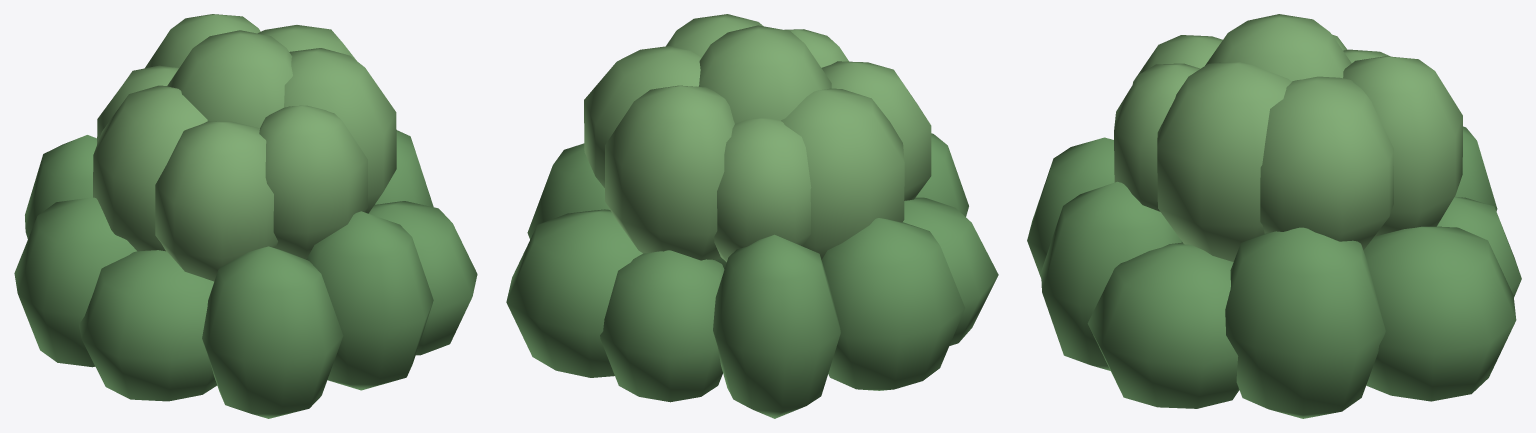
Rendered from shrub.glb.
3 views of the same model, side by side, from view 1: azimuth 30°, elevation 25°; view 2: azimuth 150°, elevation 25°; view 3: azimuth 270°, elevation 25° (orthographic). The views are drawn at different scales.
Parts seen in each view (by area): view 1: Foliage | scalloped leaf cluster.006, Foliage | scalloped leaf cluster.005, Foliage | scalloped leaf cluster.007, Foliage | scalloped leaf cluster.013, Foliage | scalloped leaf cluster.014, Foliage | scalloped leaf cluster.004, Foliage | scalloped leaf cluster.012, Foliage | scalloped leaf cluster.016, Foliage | scalloped leaf cluster.015, Foliage | scalloped leaf cluster.008, Foliage | scalloped leaf cluster.003, Foliage | scalloped leaf cluster.010 (+3 smaller); view 2: Foliage | scalloped leaf cluster.004, Foliage | scalloped leaf cluster.003, Foliage | scalloped leaf cluster.010, Foliage | scalloped leaf cluster.002, Foliage | scalloped leaf cluster.001, Foliage | scalloped leaf cluster.012, Foliage | scalloped leaf cluster.011, Foliage | scalloped leaf cluster.016, Foliage | scalloped leaf cluster.009, Foliage | scalloped leaf cluster.013, Foliage | scalloped leaf cluster.005, Foliage | scalloped leaf cluster (+3 smaller); view 3: Foliage | scalloped leaf cluster, Foliage | scalloped leaf cluster.001, Foliage | scalloped leaf cluster.008, Foliage | scalloped leaf cluster.015, Foliage | scalloped leaf cluster.009, Foliage | scalloped leaf cluster.010, Foliage | scalloped leaf cluster.007, Foliage | scalloped leaf cluster.016, Foliage | scalloped leaf cluster.014, Foliage | scalloped leaf cluster.006, Foliage | scalloped leaf cluster.002, Foliage | scalloped leaf cluster.013 (+1 smaller).
Part boxes in pixels (x1,y1,x2,y2): Foliage | scalloped leaf cluster.006: (202,246,343,418); Foliage | scalloped leaf cluster.005: (79,250,217,401); Foliage | scalloped leaf cluster.007: (306,211,433,390); Foliage | scalloped leaf cluster.013: (155,121,277,281); Foliage | scalloped leaf cluster.014: (259,105,367,259); Foliage | scalloped leaf cluster.004: (14,197,136,367); Foliage | scalloped leaf cluster.012: (93,85,207,251); Foliage | scalloped leaf cluster.016: (167,30,292,128); Foliage | scalloped leaf cluster.015: (284,48,396,213); Foliage | scalloped leaf cluster.008: (368,201,477,355); Foliage | scalloped leaf cluster.003: (25,135,96,238); Foliage | scalloped leaf cluster.010: (145,14,260,68); Foliage | scalloped leaf cluster.004: (821,218,965,390); Foliage | scalloped leaf cluster.003: (713,234,840,418); Foliage | scalloped leaf cluster.010: (605,85,734,260); Foliage | scalloped leaf cluster.002: (600,250,724,402); Foliage | scalloped leaf cluster.001: (506,209,642,377); Foliage | scalloped leaf cluster.012: (781,88,904,259); Foliage | scalloped leaf cluster.011: (714,118,811,262); Foliage | scalloped leaf cluster.016: (698,25,831,123); Foliage | scalloped leaf cluster.009: (584,45,701,187); Foliage | scalloped leaf cluster.013: (821,61,931,200); Foliage | scalloped leaf cluster.005: (903,197,998,345); Foliage | scalloped leaf cluster: (527,143,609,239); Foliage | scalloped leaf cluster: (1225,227,1385,418); Foliage | scalloped leaf cluster.001: (1363,226,1516,401); Foliage | scalloped leaf cluster.008: (1087,242,1239,408); Foliage | scalloped leaf cluster.015: (1157,61,1291,261); Foliage | scalloped leaf cluster.009: (1260,76,1393,250); Foliage | scalloped leaf cluster.010: (1343,56,1462,236); Foliage | scalloped leaf cluster.007: (1041,181,1181,370); Foliage | scalloped leaf cluster.016: (1205,14,1351,81); Foliage | scalloped leaf cluster.014: (1114,63,1200,211); Foliage | scalloped leaf cluster.006: (1027,137,1182,278); Foliage | scalloped leaf cluster.002: (1437,196,1521,296); Foliage | scalloped leaf cluster.013: (1132,35,1222,84).
Size of the model in its own units: 0.5 by 0.37 by 0.5.
